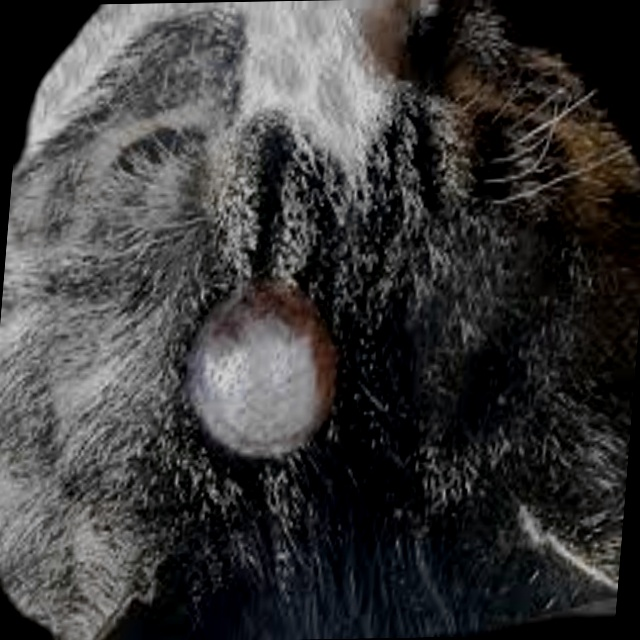lump_and_bump: (183, 274, 350, 476)
